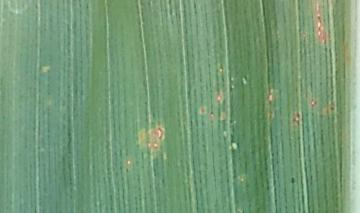tarspot: (293, 109, 303, 124), (198, 104, 208, 118), (314, 10, 324, 23), (327, 102, 337, 114), (315, 23, 324, 35)
